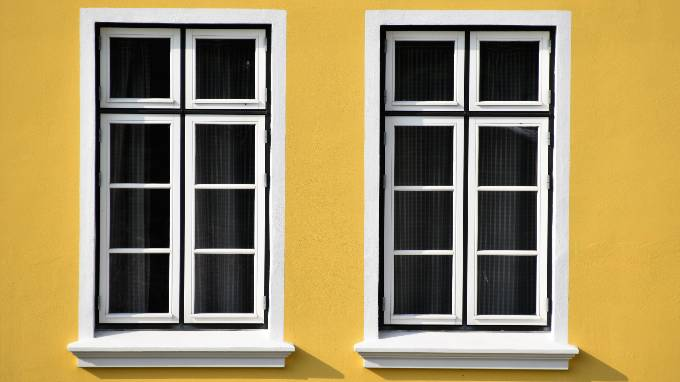Window: (79, 12, 283, 336), (371, 14, 569, 338)
